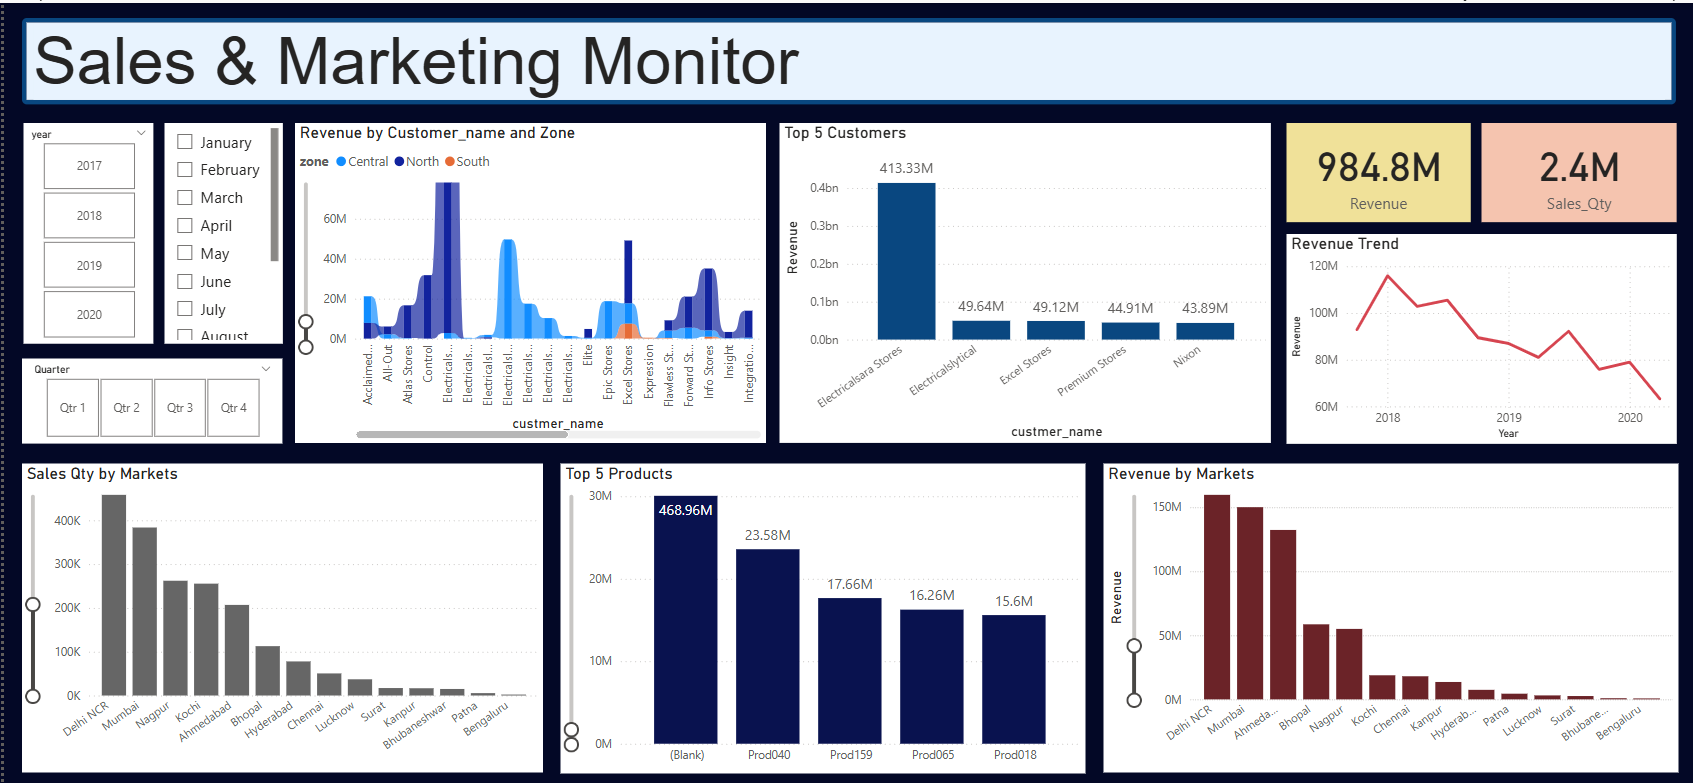

This screenshot's page, from the dashboard's own definition file:
{"tool":"powerbi","page":{"name":"Page 1","canvas":[1760,820],"ordinal":0},"visuals":[{"type":"card","fields":{"Values":["BaseMeasures.Revenue"]},"box":[1336.7,125,191.7,103.3],"z":0},{"type":"card","fields":{"Values":["BaseMeasures.Sales_Qty"]},"box":[1540,125,203.3,103.3],"z":1000},{"type":"clusteredColumnChart","title":"Revenue by Markets","fields":{"Y":["BaseMeasures.Revenue"],"Category":["sales markets.markets_name"]},"box":[1145,479.9,598.6,321.4],"z":2000},{"type":"columnChart","title":"Sales Qty by Markets","fields":{"Y":["BaseMeasures.Sales_Qty"],"Category":["sales markets.markets_name"]},"box":[19.3,479.9,542.9,321.4],"z":3000},{"type":"slicer","fields":{"Values":["sales date.year"]},"box":[20,125,135,230],"z":4000},{"type":"slicer","fields":{"Values":["sales date.month_name"]},"box":[166.7,125,123.3,230],"z":5000},{"type":"clusteredColumnChart","title":"Top 5 Customers","fields":{"Category":["sales customers.custmer_name"],"Y":["BaseMeasures.Revenue"]},"box":[808.3,125,511.7,333.3],"z":6000},{"type":"columnChart","title":"Top 5 Products","fields":{"Y":["BaseMeasures.Revenue"],"Category":["sales products.product_code"]},"box":[580,480,546.7,321.7],"z":7000},{"type":"lineChart","title":"Revenue Trend","fields":{"Y":["BaseMeasures.Revenue"],"Category":["sales date.cy_date.Variation.Date Hierarchy.Year","sales date.cy_date.Variation.Date Hierarchy.Quarter","sales date.cy_date.Variation.Date Hierarchy.Month","sales date.cy_date.Variation.Date Hierarchy.Day"]},"box":[1336.7,240,406.7,218.3],"z":8000},{"type":"slicer","fields":{"Values":["sales date.date.Variation.Date Hierarchy.Quarter"]},"box":[19.3,369.9,271.4,88.6],"z":9000},{"type":"ribbonChart","title":"Revenue by Customer_name and Zone","fields":{"Category":["sales customers.custmer_name","sales markets.markets_name"],"Y":["BaseMeasures.Revenue"],"Series":["sales markets.zone"]},"box":[303.3,125,490,333.3],"z":10000},{"type":"textbox","title":"Sales & Marketing Monitor","box":[18.3,15,1723.3,90],"z":11000}]}

Visuals, with their boxes in screenshot pixels (x1, y1, x2, y2), scaled from the page's 1760x820 canvas onto the 1693x783 screenshot:
card - BaseMeasures.Revenue: l=1286, t=119, r=1470, b=218
card - BaseMeasures.Sales_Qty: l=1481, t=119, r=1677, b=218
"Revenue by Markets" clusteredColumnChart: l=1101, t=458, r=1677, b=765
"Sales Qty by Markets" columnChart: l=19, t=458, r=541, b=765
slicer - sales date.year: l=19, t=119, r=149, b=339
slicer - sales date.month_name: l=160, t=119, r=279, b=339
"Top 5 Customers" clusteredColumnChart: l=778, t=119, r=1270, b=438
"Top 5 Products" columnChart: l=558, t=458, r=1084, b=766
"Revenue Trend" lineChart: l=1286, t=229, r=1677, b=438
slicer - sales date.date.Variation.Date Hierarchy.Quarter: l=19, t=353, r=280, b=438
"Revenue by Customer_name and Zone" ribbonChart: l=292, t=119, r=763, b=438
"Sales & Marketing Monitor" textbox: l=18, t=14, r=1675, b=100
